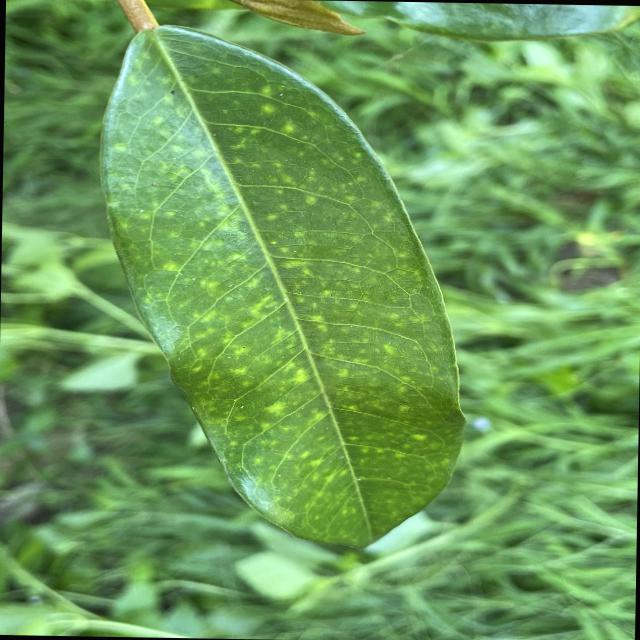Leaf Spot: (89, 13, 482, 562)
